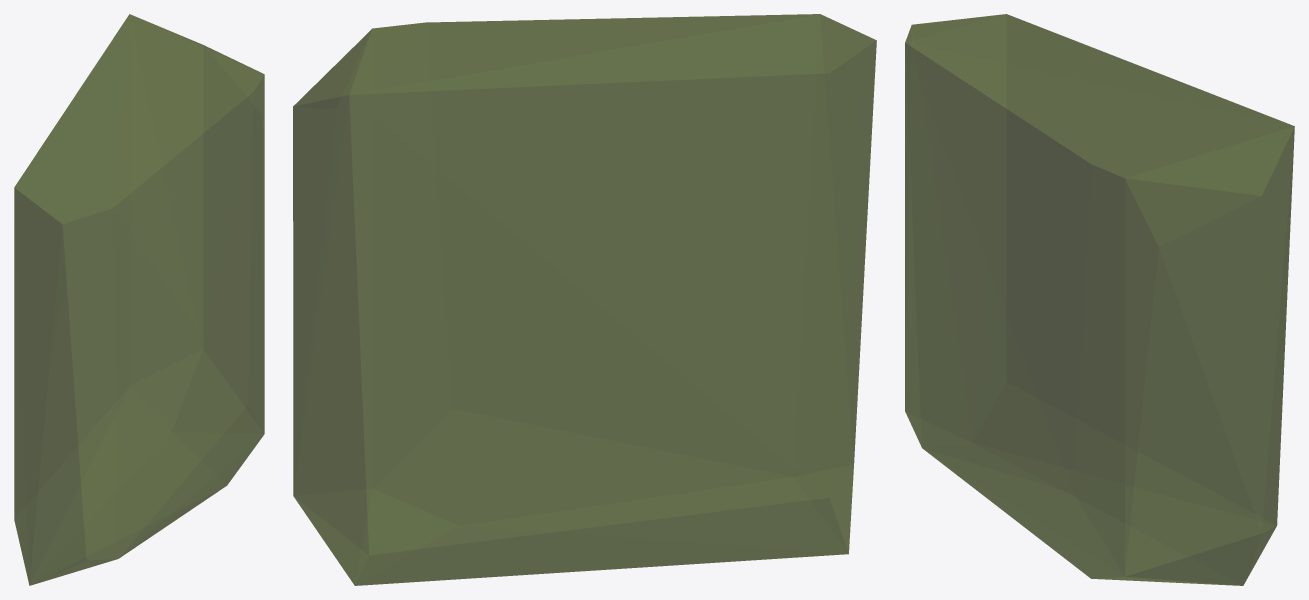
3 renders of one model, left to right at view 1: azimuth 30°, elevation 25°; view 2: azimuth 150°, elevation 25°; view 3: azimuth 270°, elevation 25°, orthographic. The views are drawn at different scales.
Visible parts, largest first — view 1: Shape_IndexedFaceSet.020_Shape_IndexedFaceSet.15870; view 2: Shape_IndexedFaceSet.020_Shape_IndexedFaceSet.15870; view 3: Shape_IndexedFaceSet.020_Shape_IndexedFaceSet.15870.
Part boxes in pixels (x1=…): Shape_IndexedFaceSet.020_Shape_IndexedFaceSet.15870: x1=14, y1=14, x2=264, y2=585; Shape_IndexedFaceSet.020_Shape_IndexedFaceSet.15870: x1=293, y1=14, x2=876, y2=585; Shape_IndexedFaceSet.020_Shape_IndexedFaceSet.15870: x1=905, y1=14, x2=1294, y2=585.
Bounding box in the file's own units: 0.0549 × 0.0671 × 0.0527.
